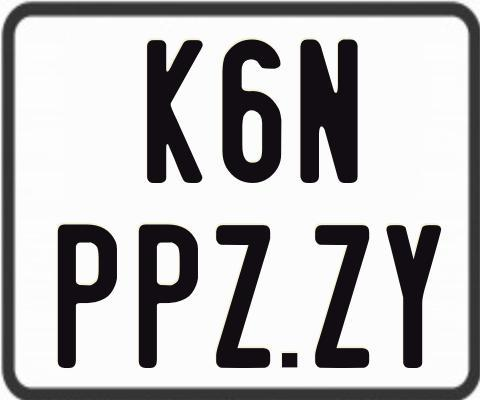6: (220, 37, 280, 185)
K: (146, 37, 208, 182)
N: (297, 38, 360, 187)
P: (57, 224, 122, 369), (138, 221, 198, 367)
Y: (383, 224, 442, 368)
Z: (213, 222, 273, 368), (315, 225, 372, 374)
